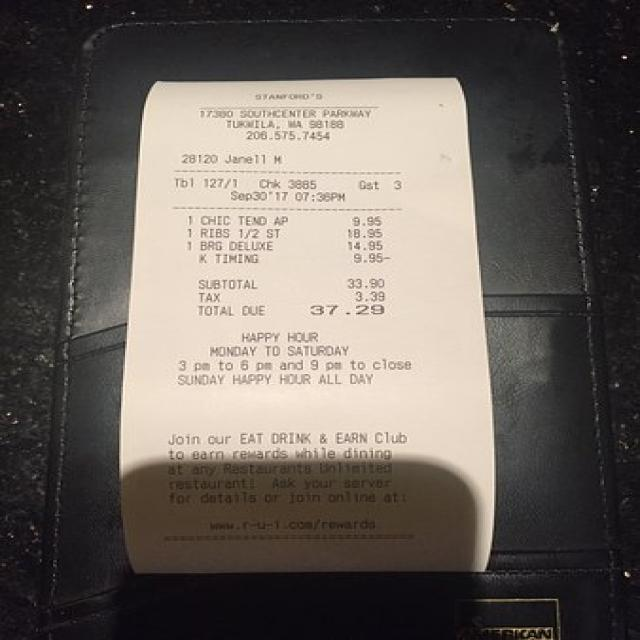TotalPrice: (159, 295, 395, 333)
